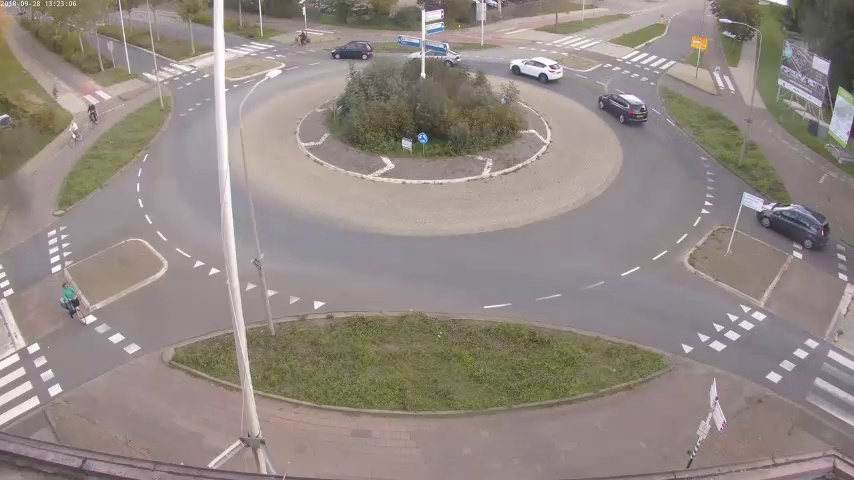bicycle: (58, 282, 92, 326), (83, 103, 104, 129), (66, 112, 81, 148), (293, 21, 311, 48)
car: (756, 196, 828, 254), (509, 53, 562, 87), (602, 93, 648, 129), (411, 46, 458, 74), (327, 39, 370, 64)
